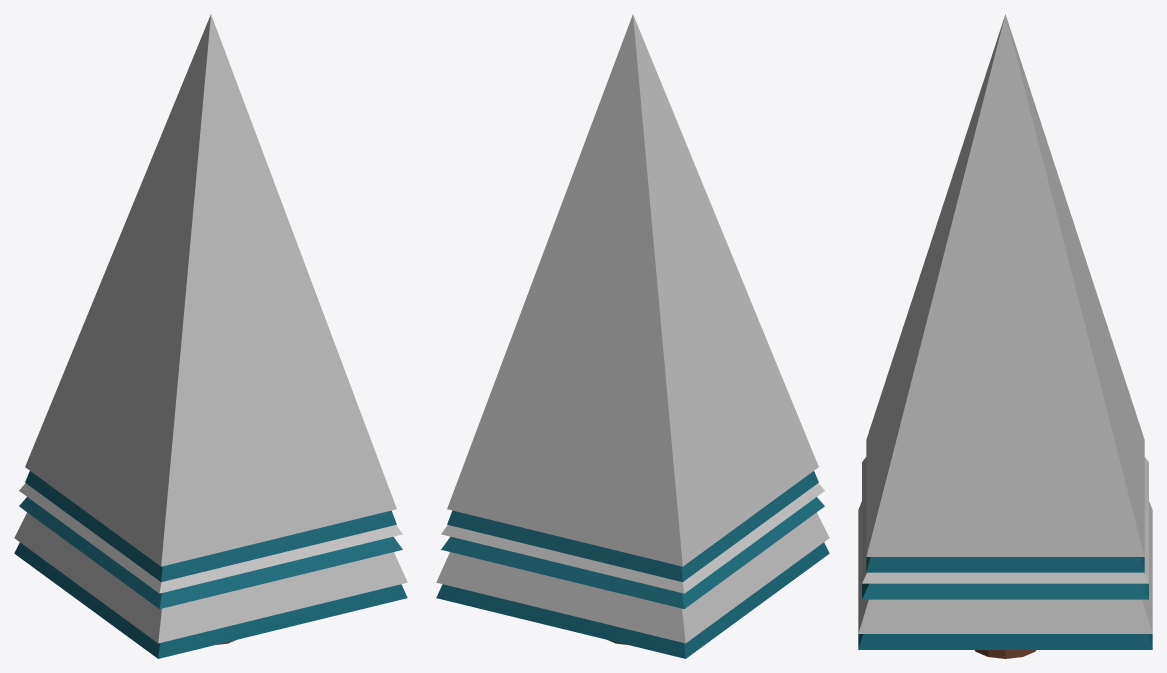
Rendered from Tree_34_winter_gradient_blue_vc.fbx.
3 renders of one model, left to right at view 1: azimuth 30°, elevation 25°; view 2: azimuth 150°, elevation 25°; view 3: azimuth 270°, elevation 25°, orthographic. The views are drawn at different scales.
Visible parts, largest first — view 1: Tree_34_winter_gradient_blue_vc; view 2: Tree_34_winter_gradient_blue_vc; view 3: Tree_34_winter_gradient_blue_vc.
Part boxes in pixels (box(x1,y1,x2,y2)): Tree_34_winter_gradient_blue_vc: box(14, 14, 407, 658); Tree_34_winter_gradient_blue_vc: box(436, 14, 829, 658); Tree_34_winter_gradient_blue_vc: box(858, 14, 1152, 658).
Size of the model in its own units: 83.78 by 198 by 83.78.
